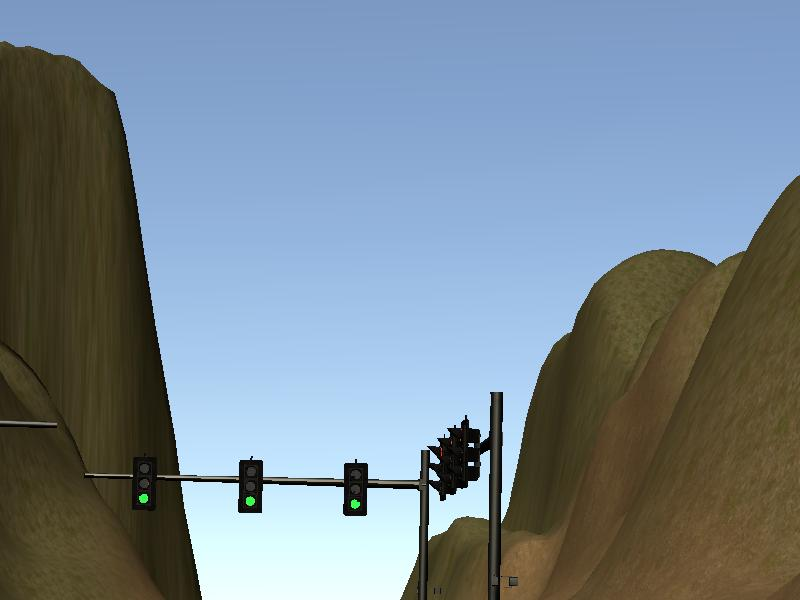green: (131, 456, 156, 511), (237, 458, 262, 513), (342, 461, 367, 516)
